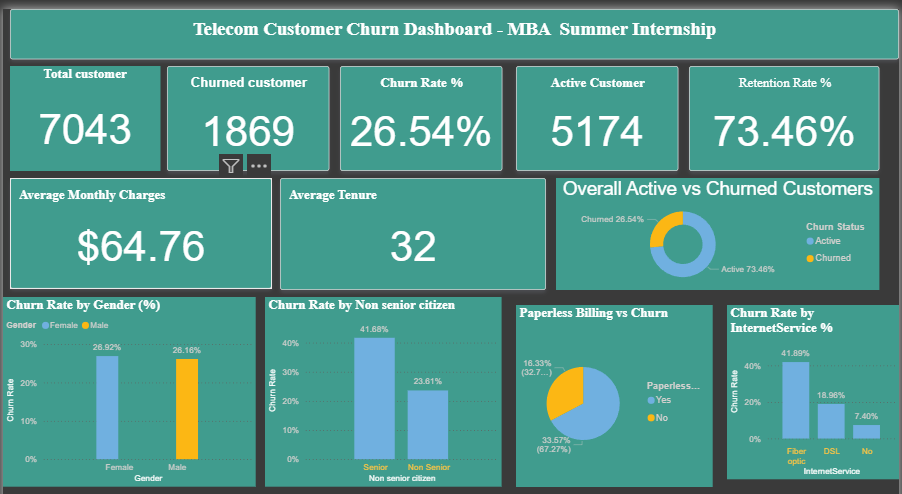

The dashboard page shown, as its layout file describes it:
{"tool":"powerbi","page":{"name":"Page 1","canvas":[1280,720],"ordinal":0},"visuals":[{"type":"textbox","box":[10.1,0,1270.1,72],"z":0},{"type":"card","title":"Total customer","fields":{"Values":["Measures_Tables.Total Customers"]},"box":[10.1,82.1,214.6,149.8],"z":1000},{"type":"card","title":"Churned customer","fields":{"Values":["Measures_Tables.Churned Customers"]},"box":[234.7,82.1,231.8,149.8],"z":2000},{"type":"card","title":"Churn Rate %","fields":{"Values":["Measures_Tables.Churn Rate"]},"box":[481,82.1,231.8,149.8],"z":3000},{"type":"card","title":"Active Customer","fields":{"Values":["Measures_Tables.Active Customers"]},"box":[733,82.1,231.8,149.8],"z":4000},{"type":"card","title":"Retention Rate %","fields":{"Values":["Measures_Tables.Retention Rate"]},"box":[980.6,82.1,272.2,149.8],"z":5000},{"type":"card","title":"Average Monthly Charges","fields":{"Values":["Measures_Tables.Avg Monthly Charges"]},"box":[10.1,241.9,374.4,158.4],"z":6000},{"type":"card","title":"Average Tenure","fields":{"Values":["Measures_Tables.Avg Tenure"]},"box":[395.1,241.5,380.5,159.5],"z":7000},{"type":"donutChart","title":"Overall Active vs Churned Customers","fields":{"Y":["CountNonNull(TelecomCustomerChurn.customerID)"],"Category":["TelecomCustomerChurn.Churn Status"]},"box":[790.2,241.5,462.4,159.5],"z":8000},{"type":"clusteredColumnChart","title":"Churn Rate by Gender (%)","fields":{"Category":["TelecomCustomerChurn.Gender"],"Series":["TelecomCustomerChurn.Gender"],"Y":["Measures_Tables.Churn Rate"]},"box":[0,411.8,361.4,270.7],"z":9000},{"type":"clusteredColumnChart","fields":{"Y":["Measures_Tables.Churn Rate"],"Category":["TelecomCustomerChurn.Non senior citizen"]},"box":[374.4,411.8,338.4,270.7],"z":10000},{"type":"clusteredColumnChart","title":"Churn Rate by InternetService %","fields":{"Y":["Measures_Tables.Churn Rate"],"Category":["TelecomCustomerChurn.InternetService"]},"box":[1034.6,422.9,245.9,248.8],"z":11000},{"type":"pieChart","title":"Paperless Billing vs Churn","fields":{"Category":["TelecomCustomerChurn.PaperlessBilling"],"Y":["Measures_Tables.Churn Rate"]},"box":[733.2,422.9,281,260.5],"z":12000}]}

Visuals, with their boxes in screenshot pixels (x1, y1, x2, y2), scaled from the page's 1280x720 canvas onto the 902x494 screenshot:
textbox: 7:0:901:49
"Total customer" card: 7:56:158:159
"Churned customer" card: 165:56:329:159
"Churn Rate %" card: 339:56:502:159
"Active Customer" card: 517:56:680:159
"Retention Rate %" card: 691:56:883:159
"Average Monthly Charges" card: 7:166:271:275
"Average Tenure" card: 278:166:547:275
"Overall Active vs Churned Customers" donutChart: 557:166:883:275
"Churn Rate by Gender (%)" clusteredColumnChart: 0:283:255:468
clusteredColumnChart - Measures_Tables.Churn Rate x TelecomCustomerChurn.Non senior citizen: 264:283:502:468
"Churn Rate by InternetService %" clusteredColumnChart: 729:290:901:461
"Paperless Billing vs Churn" pieChart: 517:290:715:469
